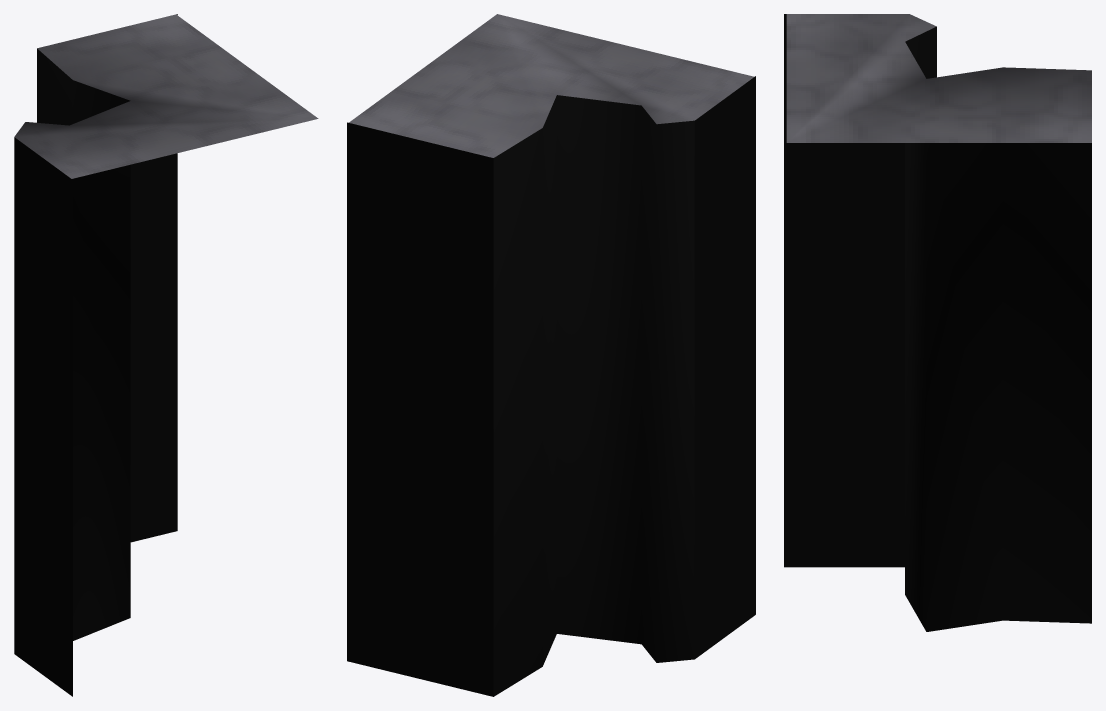
The model's file is oogabooga.obj.
3 views of the same model, side by side, from view 1: azimuth 30°, elevation 25°; view 2: azimuth 150°, elevation 25°; view 3: azimuth 270°, elevation 25° (orthographic). The views are drawn at different scales.
Visible parts, largest first — view 1: Cube_Cube.025; view 2: Cube_Cube.025; view 3: Cube_Cube.025.
Boxes of the visible parts, bbox=[...] form: Cube_Cube.025: bbox=[14, 14, 318, 696]; Cube_Cube.025: bbox=[347, 14, 755, 696]; Cube_Cube.025: bbox=[784, 14, 1091, 631].
Size of the model in its own units: 4.02 by 8 by 4.03.
2 materials, 1 textured.
